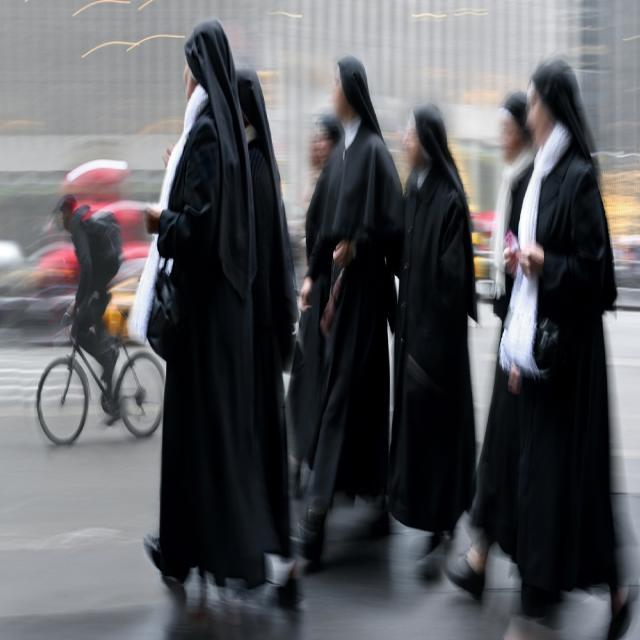body: (500, 62, 640, 639), (140, 15, 264, 638), (290, 52, 408, 570), (440, 88, 536, 605), (388, 103, 480, 549), (232, 65, 301, 612), (290, 111, 347, 508), (51, 182, 128, 434), (282, 366, 304, 505)
